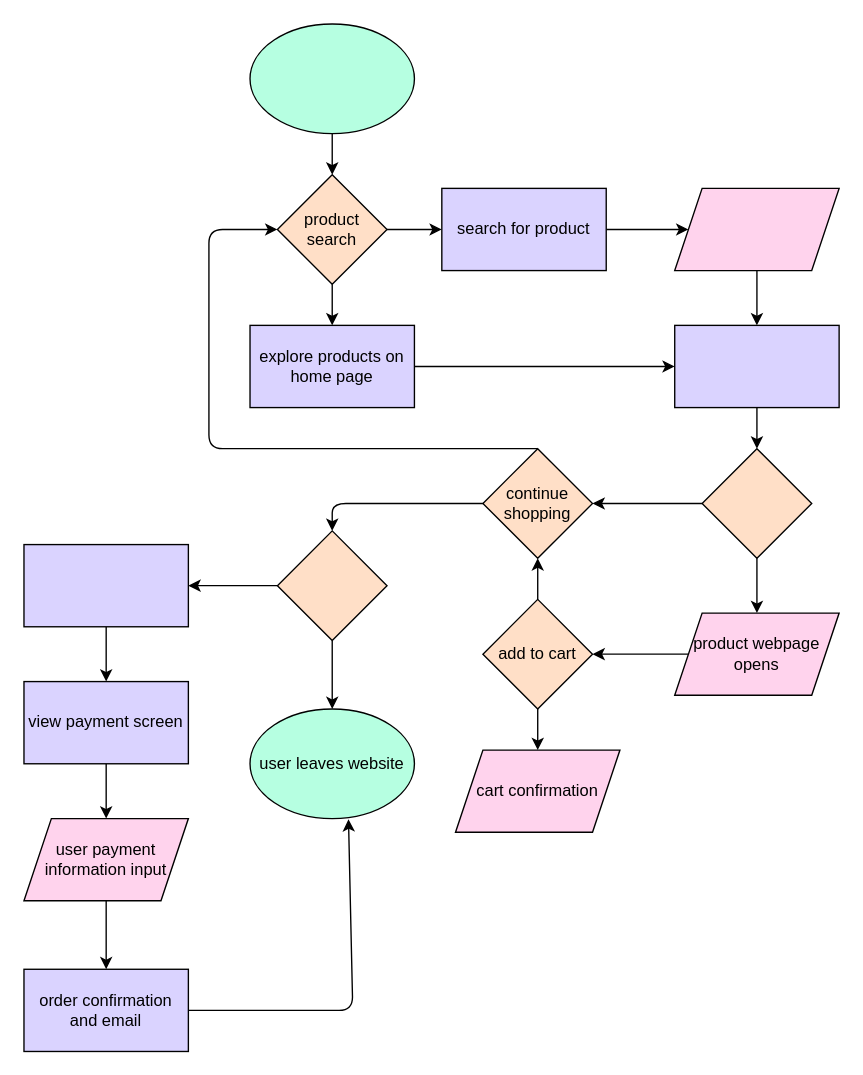
The diagram is 863 pixels wide and 1075 high, and some of its shapes have lost their labels. The shapes that lost their labels are listed below. From the top down, each one's centre as x and y in pixels, then its label:
At [331,78]: "User enters website".
At [756,229]: "user input".
At [756,366]: "user looks over products".
At [756,502]: "view product".
At [105,585]: "view cart screen".
At [331,585]: "checkout".
